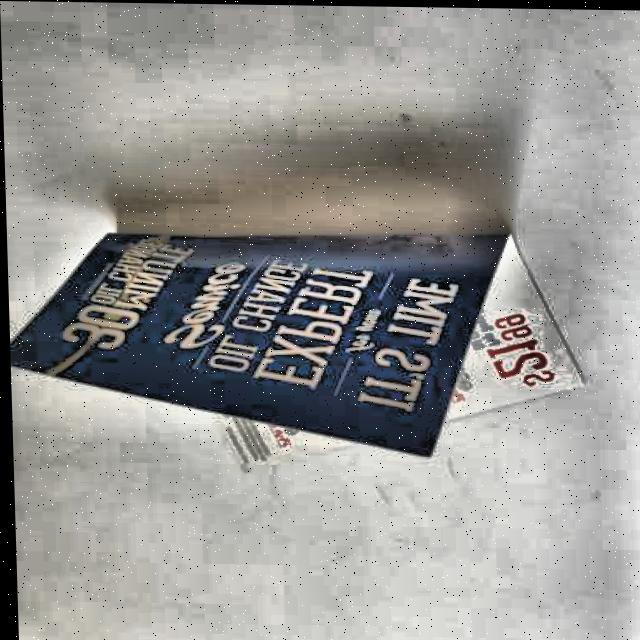paper: (7, 224, 591, 486)
